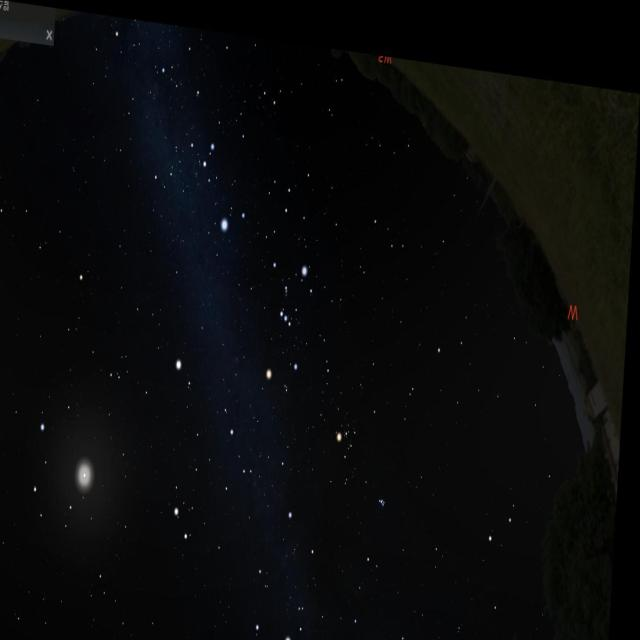canis_major: (196, 120, 256, 240)
canis_minor: (178, 342, 198, 394)
gemini: (173, 402, 262, 556)
leo: (0, 401, 90, 551)
moon: (75, 431, 119, 502)
orion: (258, 227, 320, 385)
pleiades: (379, 477, 394, 501)
taurus: (330, 391, 402, 520)
